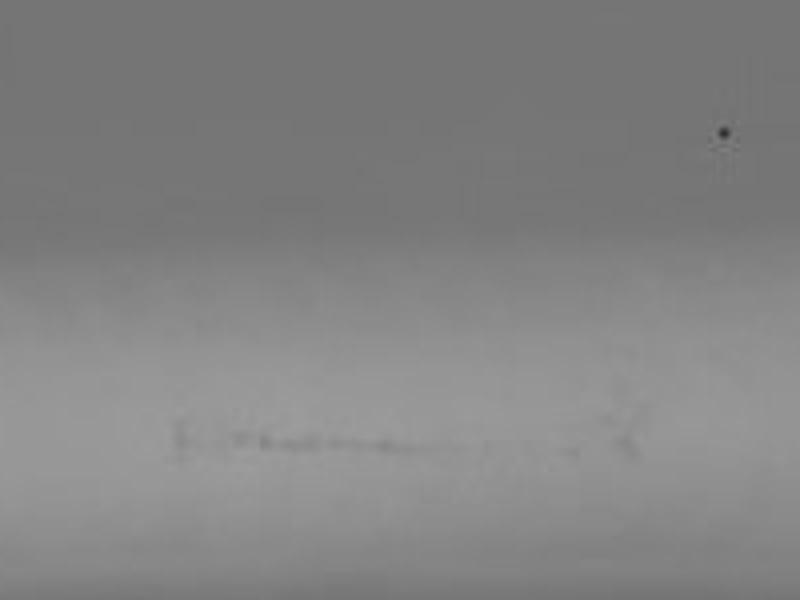defect: (610, 433, 641, 464), (282, 432, 318, 456), (169, 418, 190, 458), (324, 434, 364, 452), (374, 437, 407, 454), (715, 121, 736, 145), (229, 430, 249, 451), (561, 442, 580, 462), (256, 431, 271, 454)
